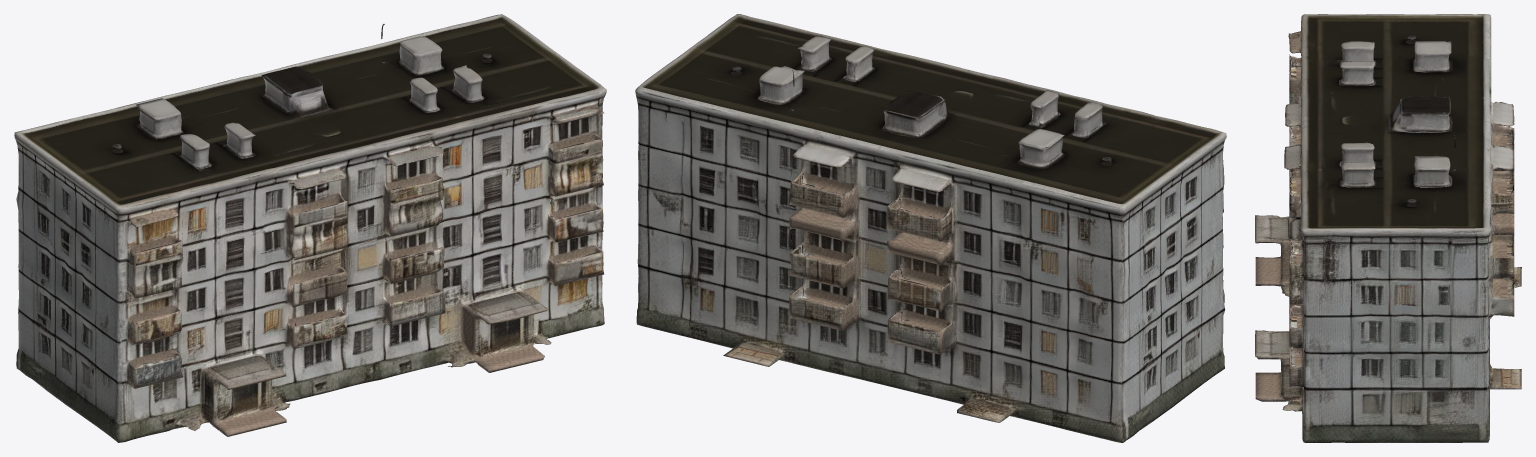
The model's file is building_khrushchevka.glb.
The picture shows the model from 3 angles, left to right: view 1: azimuth 30°, elevation 25°; view 2: azimuth 150°, elevation 25°; view 3: azimuth 270°, elevation 25°; orthographic projection. The views are drawn at different scales.
Parts seen in each view (by area): view 1: building_khrushchevka; view 2: building_khrushchevka; view 3: building_khrushchevka.
Part boxes in pixels (bbox=[...]): building_khrushchevka: bbox=[14, 14, 606, 442]; building_khrushchevka: bbox=[635, 14, 1226, 442]; building_khrushchevka: bbox=[1255, 14, 1521, 442].
Size of the model in its own units: 60 by 31.97 by 31.18.
1 material, 1 textured.
